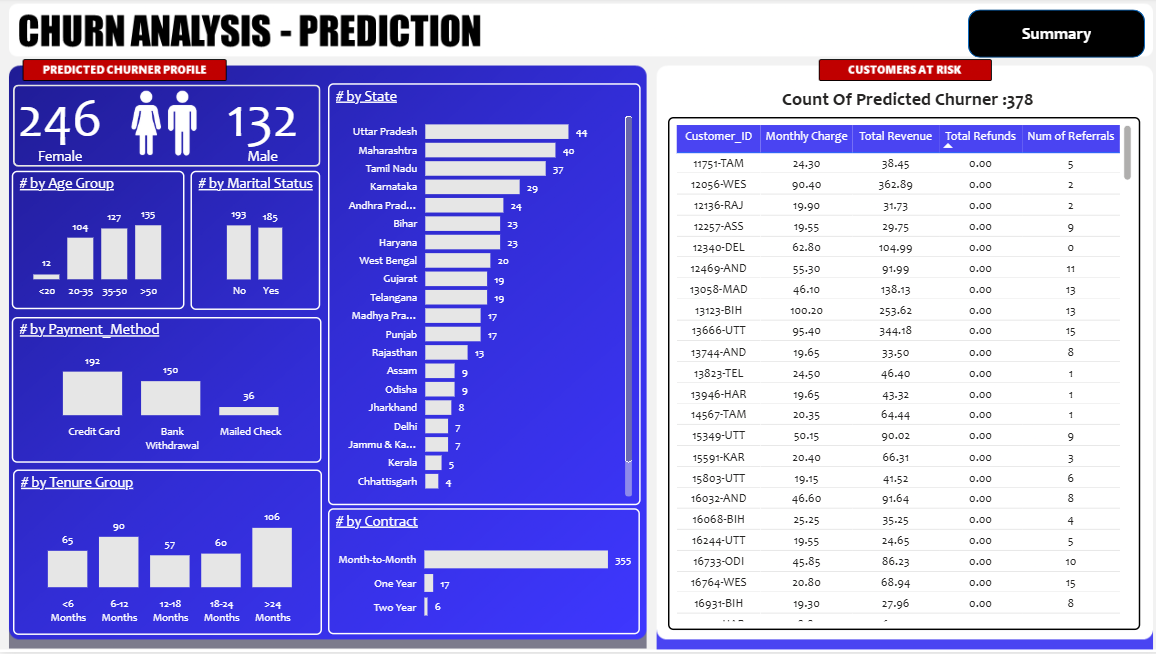

The page's visual inventory and layout, read from the dashboard file:
{"tool":"powerbi","page":{"name":"Churn Prediction","canvas":[1280,720],"ordinal":1},"visuals":[{"type":"shape","box":[16.3,95.6,337.6,90.4],"z":0},{"type":"tableEx","fields":{"Values":["Predictions.Customer_ID","Predictions.Monthly_Charge","Predictions.Total_Revenue","Predictions.Total_Refunds","Predictions.Number_of_Referrals"]},"box":[735,131.7,518.3,563.3],"z":1000},{"type":"card","fields":{"Values":["Table_Measure.Title Predicted Churner"]},"box":[840,95,318.3,36.7],"z":2000},{"type":"card","fields":{"Values":["Table_Measure.Count Predicted Churner"]},"box":[8.2,86.4,120,100],"z":3000},{"type":"card","fields":{"Values":["Table_Measure.Count Predicted Churner"]},"box":[230.9,86.4,120,100],"z":4000},{"type":"clusteredColumnChart","fields":{"Category":["mapping_AgeGrp.Age Group"],"Y":["CountNonNull(Predictions.Customer_ID)"]},"box":[15.6,190.9,189.4,152.4],"z":5000},{"type":"clusteredColumnChart","fields":{"Y":["CountNonNull(Predictions.Customer_ID)"],"Category":["Predictions.Married"]},"box":[211.4,190.4,142.5,152.5],"z":6000},{"type":"clusteredColumnChart","fields":{"Y":["CountNonNull(Predictions.Customer_ID)"],"Category":["mapping_TenureGrp.Tenure Group"]},"box":[16.6,518.2,339.3,181.4],"z":7000},{"type":"clusteredColumnChart","fields":{"Y":["CountNonNull(Predictions.Customer_ID)"],"Category":["Predictions.Payment_Method"]},"box":[15.7,351.6,340,160],"z":8000},{"type":"clusteredBarChart","fields":{"Y":["CountNonNull(Predictions.Customer_ID)"],"Category":["Predictions.Contract"]},"box":[362.8,561,342.5,138.3],"z":9000},{"type":"clusteredBarChart","fields":{"Y":["CountNonNull(Predictions.Customer_ID)"],"Category":["Predictions.State"]},"box":[362.8,94.4,343.3,463.3],"z":10000},{"type":"image","box":[121.8,87.3,120,100],"z":11000},{"type":"shape","box":[1064.3,14.3,194.3,52.9],"z":12000}]}

Visuals, with their boxes in screenshot pixels (x1, y1, x2, y2), scaled from the page's 1280x720 canvas onto the 1156x654 screenshot:
shape: region(15, 87, 320, 169)
tableEx - Predictions.Customer_ID x Predictions.Monthly_Charge: region(664, 120, 1132, 631)
card - Table_Measure.Title Predicted Churner: region(759, 86, 1046, 120)
card - Table_Measure.Count Predicted Churner: region(7, 78, 116, 169)
card - Table_Measure.Count Predicted Churner: region(209, 78, 317, 169)
clusteredColumnChart - mapping_AgeGrp.Age Group x CountNonNull(Predictions.Customer_ID): region(14, 173, 185, 312)
clusteredColumnChart - CountNonNull(Predictions.Customer_ID) x Predictions.Married: region(191, 173, 320, 311)
clusteredColumnChart - CountNonNull(Predictions.Customer_ID) x mapping_TenureGrp.Tenure Group: region(15, 471, 321, 635)
clusteredColumnChart - CountNonNull(Predictions.Customer_ID) x Predictions.Payment_Method: region(14, 319, 321, 465)
clusteredBarChart - CountNonNull(Predictions.Customer_ID) x Predictions.Contract: region(328, 510, 637, 635)
clusteredBarChart - CountNonNull(Predictions.Customer_ID) x Predictions.State: region(328, 86, 638, 507)
image: region(110, 79, 218, 170)
shape: region(961, 13, 1137, 61)
